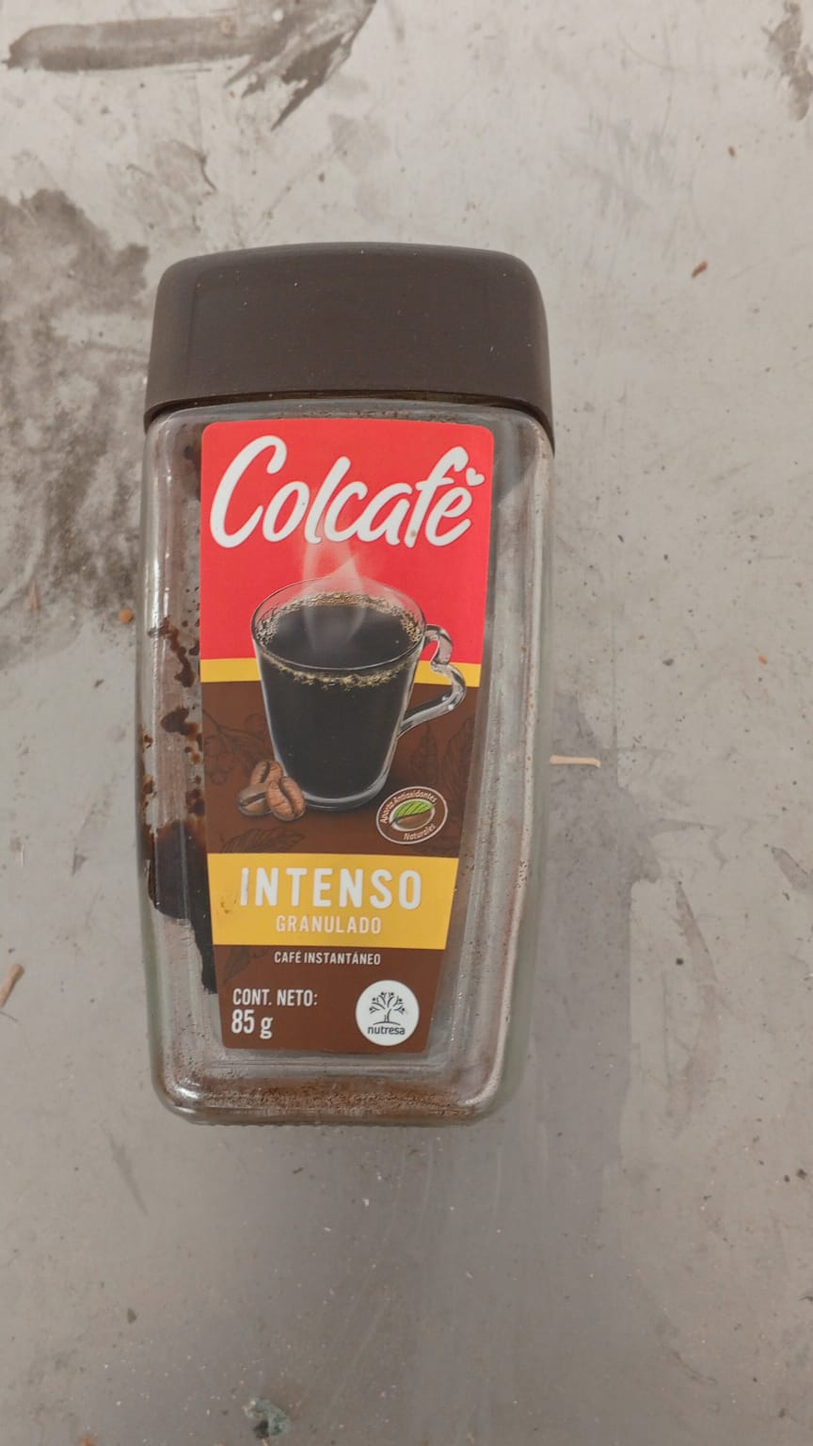Plastico: (147, 242, 546, 395)
Vidrio: (135, 403, 550, 1121)
